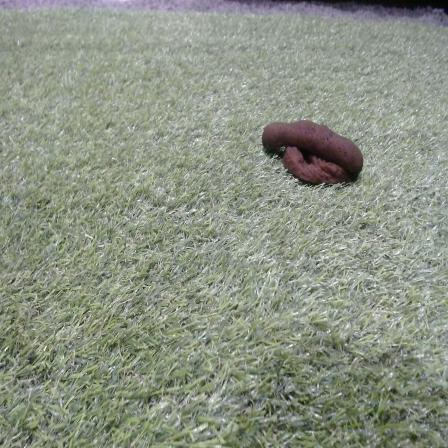dog-poop: (260, 112, 365, 187)
